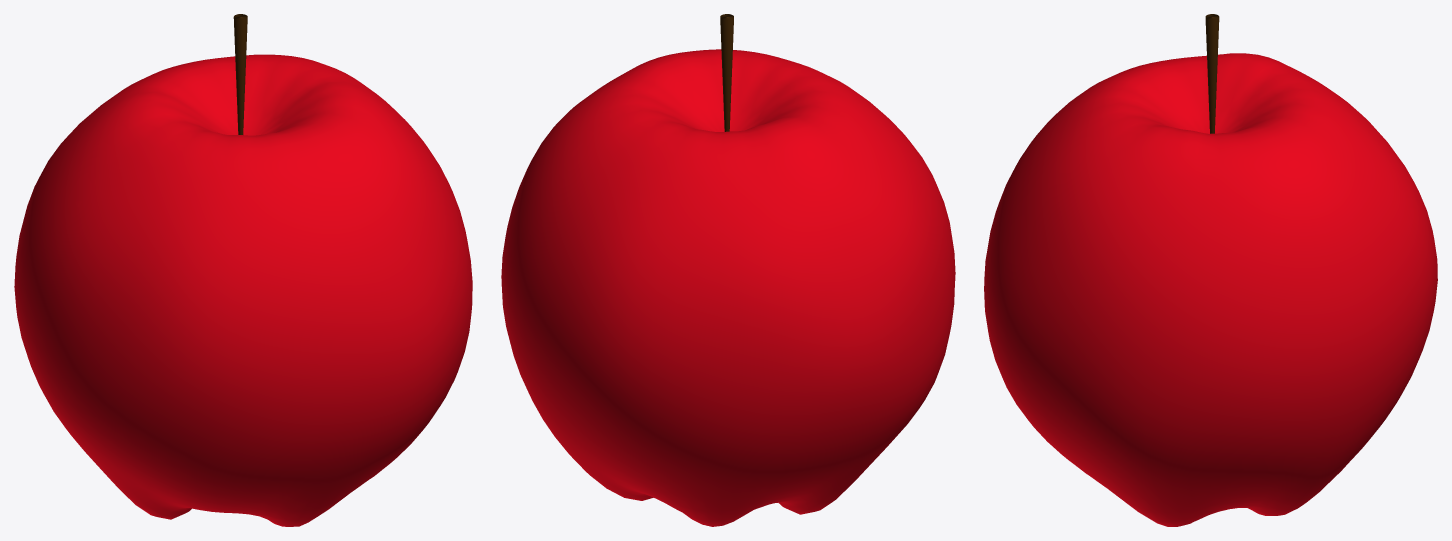
File: pomme.fbx
3 renders of one model, left to right at view 1: azimuth 30°, elevation 25°; view 2: azimuth 150°, elevation 25°; view 3: azimuth 270°, elevation 25°, orthographic.
Visible parts, largest first — view 1: pomme, tige; view 2: pomme, tige; view 3: pomme, tige.
Part boxes in pixels (x1,y1,x2,y2): pomme: (14, 54, 472, 526); tige: (233, 14, 247, 134); pomme: (501, 49, 955, 526); tige: (720, 14, 733, 131); pomme: (984, 53, 1437, 526); tige: (1205, 14, 1219, 133).
Bounding box in the file's own units: 1.92 × 2.24 × 1.94.
